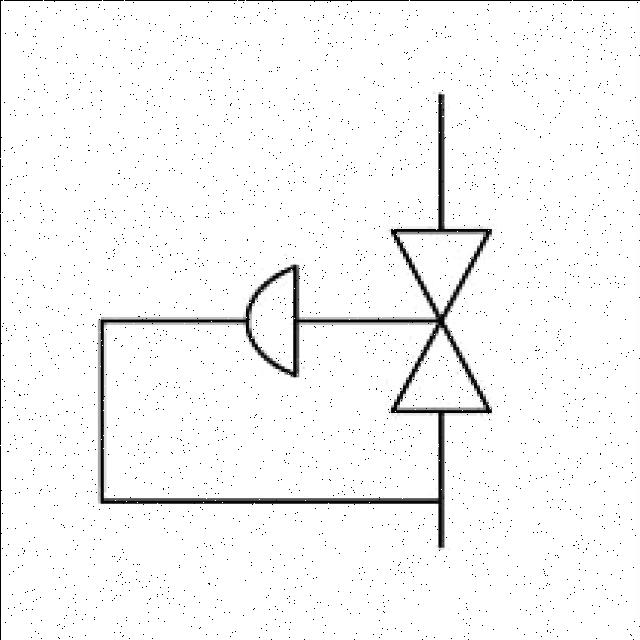Pneumatic-Diaphragm Gate Valve: (248, 226, 496, 414)
